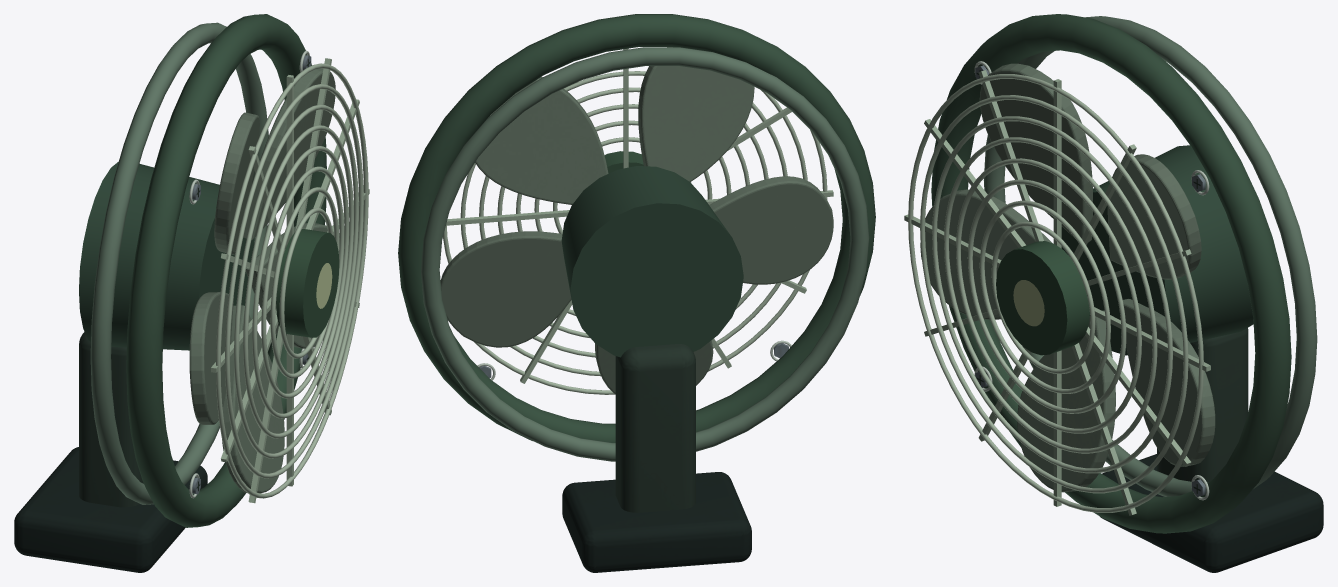
The model's file is fan.glb.
The picture shows the model from 3 angles, left to right: view 1: azimuth 30°, elevation 25°; view 2: azimuth 150°, elevation 25°; view 3: azimuth 270°, elevation 25°; orthographic projection. The views are drawn at different scales.
Parts seen in each view (by area): view 1: geo_451_675b35b, geo_1764_c521748f (×5), geo_451_cd91b3c7, geo_148_a094ea85, geo_4740_1a4a47f5, geo_24_2b9d3bb5 (×8), geo_4740_6c45b791, geo_715_56f3b0e7, geo_148_1ea63545, geo_715_285796b7, geo_715_935484c7, geo_715_e877d547 (+5 smaller); view 2: geo_1764_c521748f (×5), geo_451_675b35b, geo_148_a094ea85, geo_451_cd91b3c7, geo_4740_1a4a47f5, geo_4740_6c45b791, geo_24_2b9d3bb5 (×3), geo_715_56f3b0e7, geo_715_285796b7, geo_715_935484c7, geo_715_e877d547, geo_715_ae1d7ecf (+1 smaller); view 3: geo_1764_c521748f (×5), geo_451_675b35b, geo_451_cd91b3c7, geo_148_a094ea85, geo_24_2b9d3bb5 (×9), geo_4740_1a4a47f5, geo_148_1ea63545, geo_715_56f3b0e7, geo_715_285796b7, geo_4740_6c45b791, geo_715_935484c7, geo_715_e877d547 (+5 smaller).
Part boxes in pixels (left/top/right/bottom): geo_451_675b35b: left=126, top=14, right=326, bottom=527; geo_1764_c521748f (×5): left=189, top=68, right=339, bottom=493; geo_451_cd91b3c7: left=90, top=22, right=268, bottom=504; geo_148_a094ea85: left=79, top=162, right=254, bottom=350; geo_4740_1a4a47f5: left=14, top=447, right=207, bottom=572; geo_24_2b9d3bb5 (×8): left=211, top=58, right=369, bottom=503; geo_4740_6c45b791: left=79, top=332, right=143, bottom=507; geo_715_56f3b0e7: left=216, top=63, right=368, bottom=498; geo_148_1ea63545: left=276, top=229, right=339, bottom=337; geo_715_285796b7: left=225, top=84, right=363, bottom=478; geo_715_935484c7: left=234, top=104, right=358, bottom=458; geo_715_e877d547: left=243, top=125, right=353, bottom=438; geo_1764_c521748f (×5): left=440, top=47, right=833, bottom=394; geo_451_675b35b: left=398, top=14, right=875, bottom=442; geo_148_a094ea85: left=561, top=166, right=743, bottom=357; geo_451_cd91b3c7: left=421, top=47, right=869, bottom=461; geo_4740_1a4a47f5: left=562, top=472, right=751, bottom=572; geo_4740_6c45b791: left=615, top=344, right=695, bottom=512; geo_24_2b9d3bb5 (×3): left=446, top=48, right=833, bottom=383; geo_715_56f3b0e7: left=474, top=130, right=827, bottom=394; geo_715_285796b7: left=443, top=90, right=807, bottom=376; geo_715_935484c7: left=460, top=102, right=787, bottom=357; geo_715_e877d547: left=479, top=71, right=768, bottom=338; geo_715_ae1d7ecf: left=497, top=87, right=749, bottom=315; geo_1764_c521748f (×5): left=920, top=63, right=1215, bottom=492; geo_451_675b35b: left=931, top=14, right=1291, bottom=533; geo_451_cd91b3c7: left=983, top=16, right=1317, bottom=496; geo_148_a094ea85: left=1061, top=145, right=1253, bottom=355; geo_24_2b9d3bb5 (×9): left=904, top=70, right=1210, bottom=515; geo_4740_1a4a47f5: left=1100, top=454, right=1323, bottom=572; geo_148_1ea63545: left=996, top=241, right=1089, bottom=355; geo_715_56f3b0e7: left=908, top=74, right=1203, bottom=512; geo_715_285796b7: left=920, top=95, right=1188, bottom=493; geo_4740_6c45b791: left=1157, top=328, right=1248, bottom=482; geo_715_935484c7: left=932, top=116, right=1172, bottom=473; geo_715_e877d547: left=944, top=137, right=1157, bottom=453.
Bounding box in the file's own units: 1.07 × 1.38 × 0.9835.
33 materials, 11 textured.
